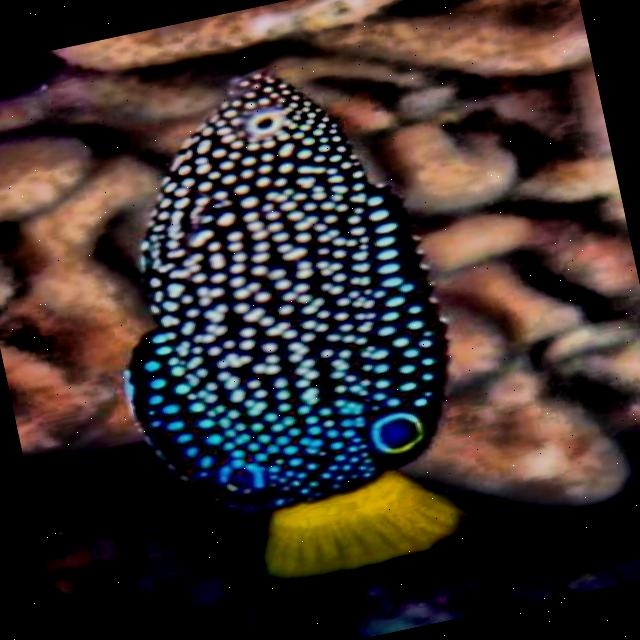fish: (64, 42, 494, 608)
